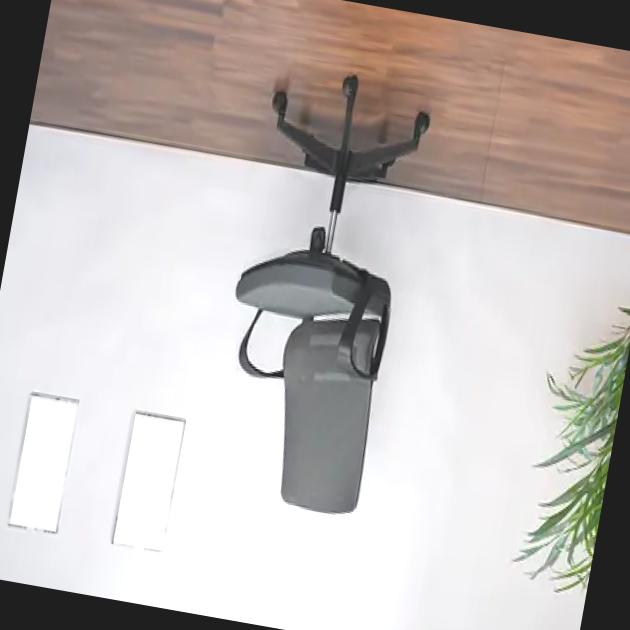chair: (210, 74, 446, 554)
